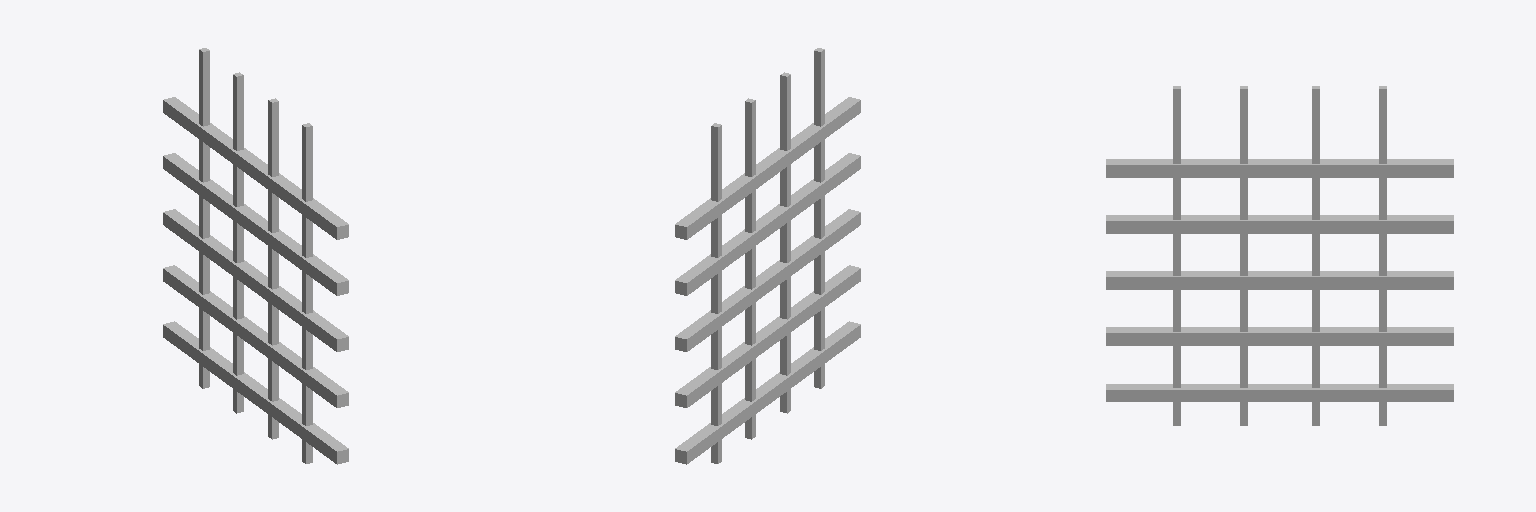
The model's file is Grilles.obj.
3 renders of one model, left to right at view 1: azimuth 30°, elevation 25°; view 2: azimuth 150°, elevation 25°; view 3: azimuth 270°, elevation 25°, orthographic.
Parts seen in each view (by area): view 1: Grilles; view 2: Grilles; view 3: Grilles.
Part boxes in pixels (x1,y1,x2,y2): Grilles: (163,48,348,464); Grilles: (675,48,860,464); Grilles: (1106,86,1453,425).
Size of the model in its own units: 12.41 by 326 by 306.